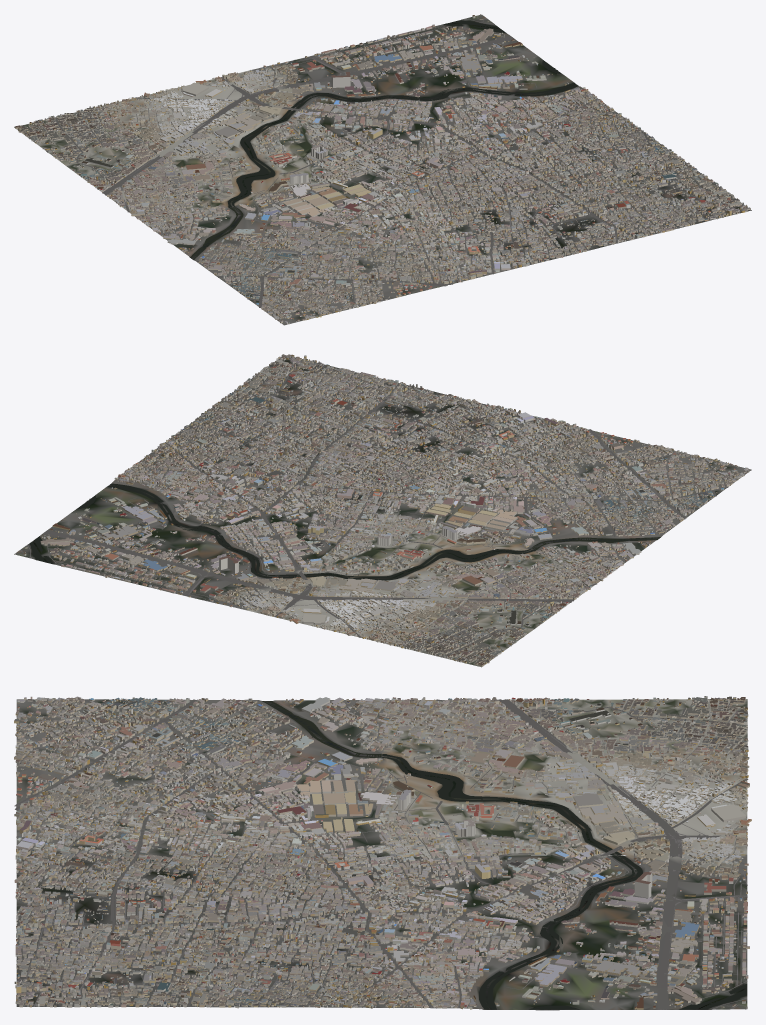
3 views of the same model, one above another, from view 1: azimuth 30°, elevation 25°; view 2: azimuth 150°, elevation 25°; view 3: azimuth 270°, elevation 25° (orthographic). The views are drawn at different scales.
Visible parts, largest first — view 1: buildings, ground, roads, water; view 2: buildings, ground, roads, water; view 3: buildings, ground, roads, water.
Boxes of the visible parts, x1,y1,x2,y2 form: buildings: (14,14,750,324); ground: (14,14,751,325); roads: (24,15,743,313); water: (190,20,578,259); buildings: (15,354,749,666); ground: (14,357,751,667); roads: (18,356,728,662); water: (28,483,660,580); buildings: (14,696,751,1009); ground: (16,699,747,1010); roads: (14,698,748,1009); water: (262,701,747,1010).
Size of the model in its own units: 2820 by 65.08 by 2828.
